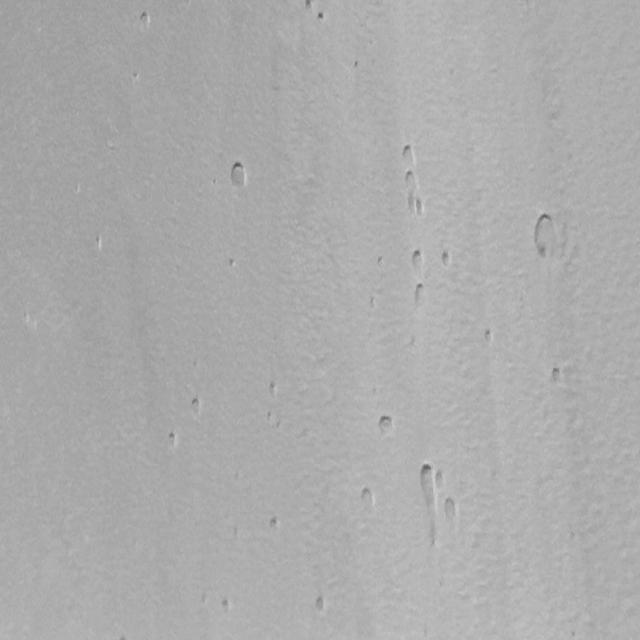pin holes: (417, 463, 441, 544), (529, 208, 561, 264), (228, 160, 250, 190), (376, 414, 398, 441), (443, 497, 461, 528), (410, 195, 431, 221), (359, 484, 379, 510), (548, 363, 568, 389), (412, 282, 431, 308), (408, 246, 426, 272), (402, 166, 419, 192), (311, 592, 329, 615), (365, 291, 383, 314), (187, 394, 204, 418), (166, 428, 183, 452), (400, 144, 418, 166), (439, 247, 456, 270), (481, 324, 498, 346), (266, 514, 284, 533), (136, 11, 152, 31), (220, 596, 236, 616), (435, 468, 449, 489), (267, 380, 281, 399), (265, 408, 278, 426), (227, 256, 240, 272), (314, 11, 327, 26), (375, 256, 387, 272), (303, 0, 316, 12), (350, 57, 362, 70)
